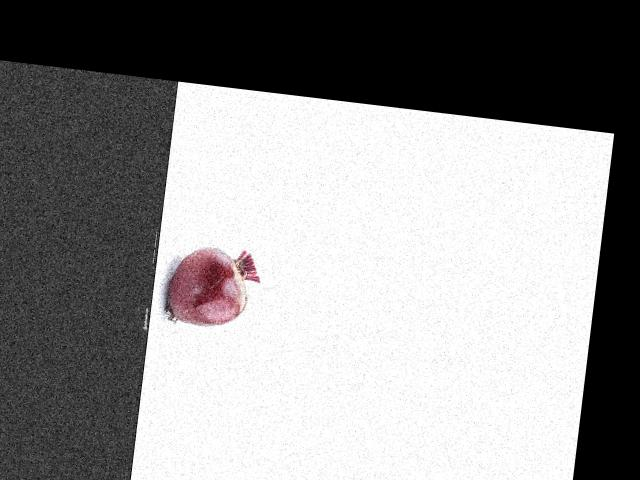beet: (165, 242, 262, 331)
